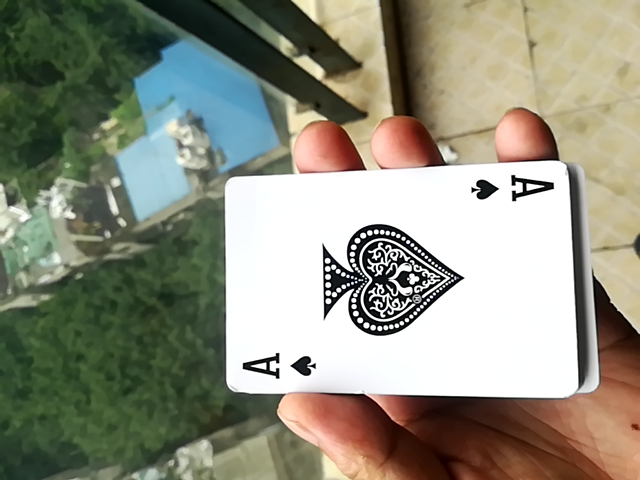ht a: (217, 161, 582, 407)
